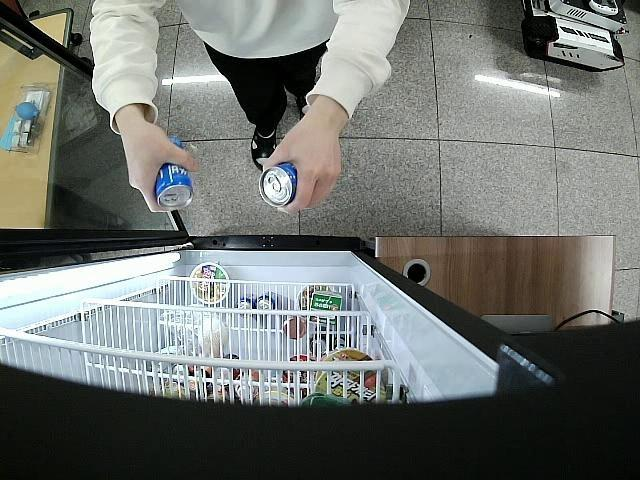15_letsbe: (154, 136, 193, 209), (258, 161, 297, 208)
